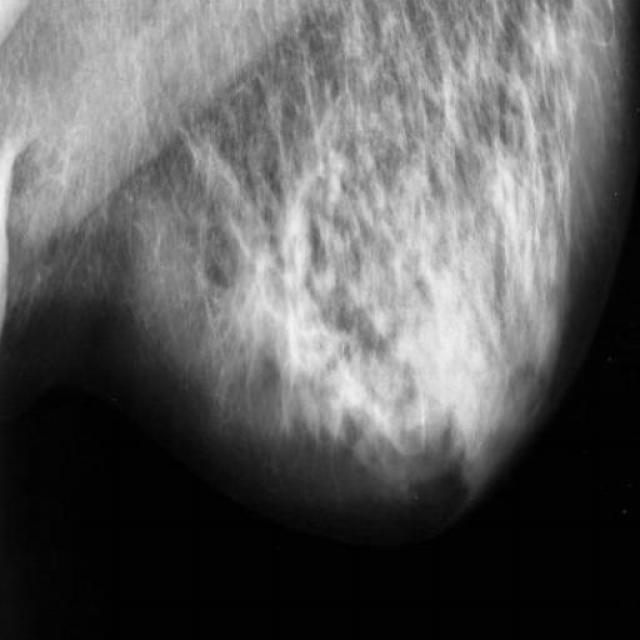cancer: (280, 289, 328, 390)
